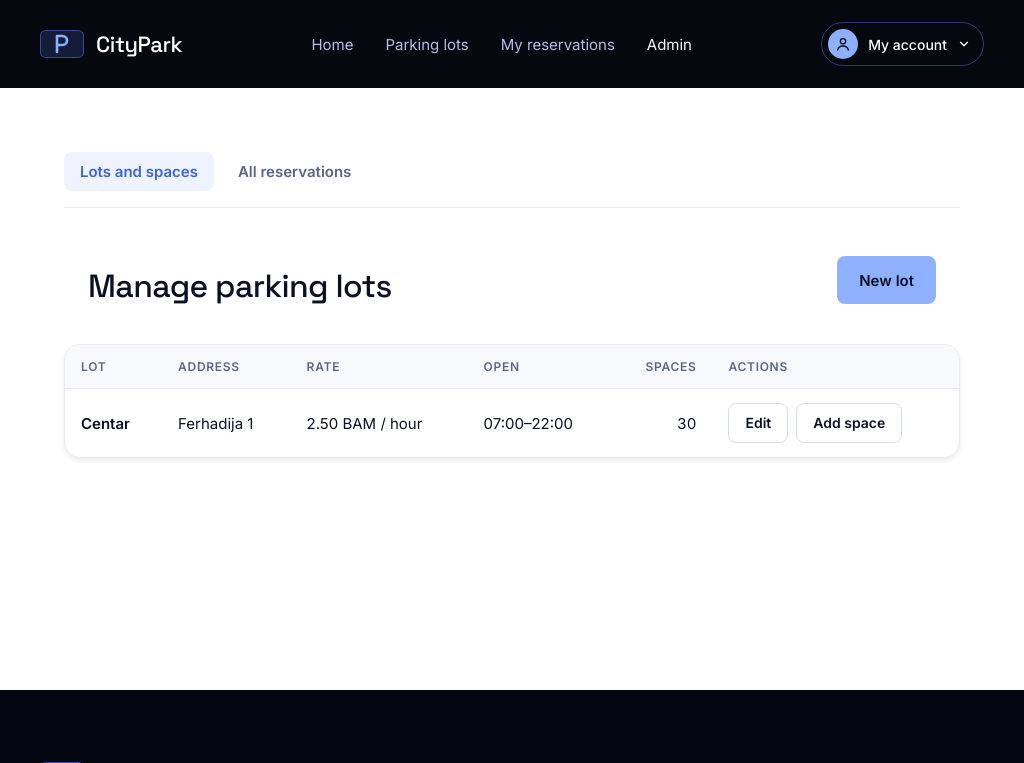
it: admin spaces › shows a duplicate label next to the field
Click the button with aria-label "Add a space to Centar": (849, 423) [796,403,902,443]
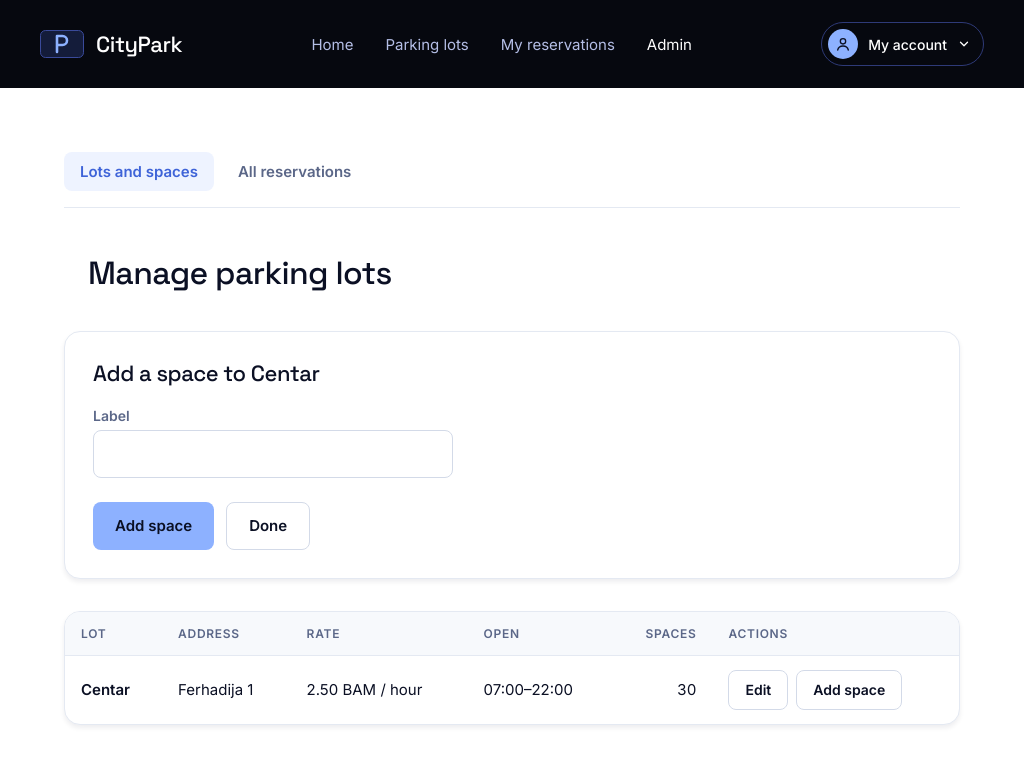
In the field labelled "Label": (273, 454) [93,430,453,478], type "B-01"
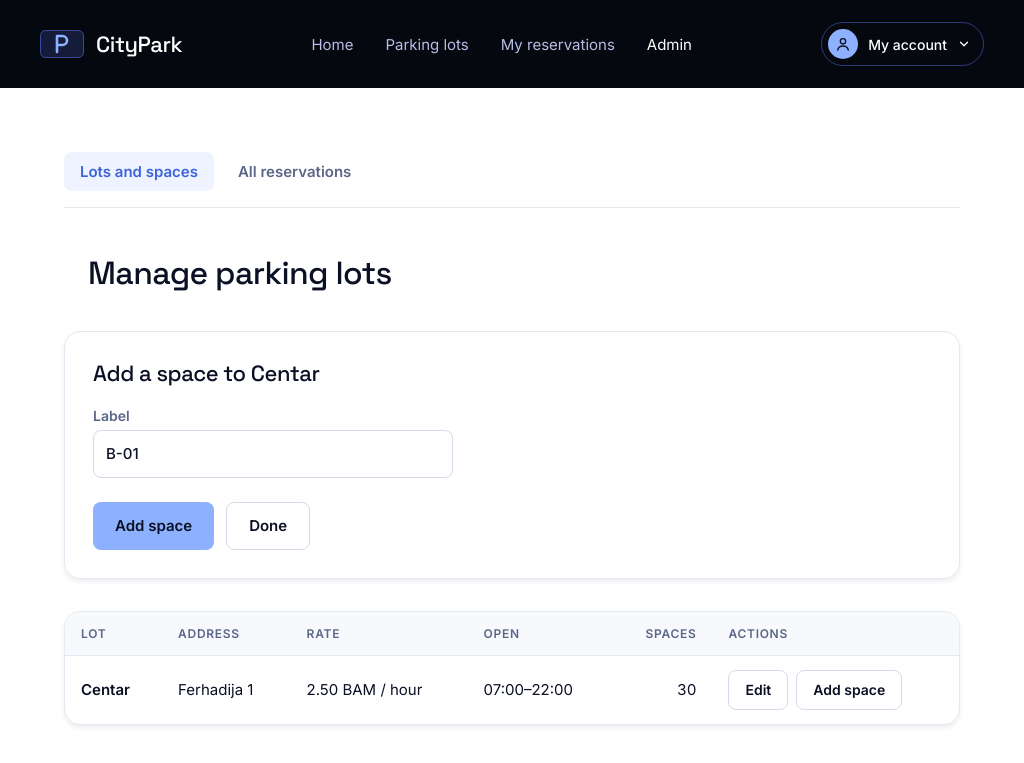
Click the button "Add space" below "Label": (154, 526) [93,502,214,550]
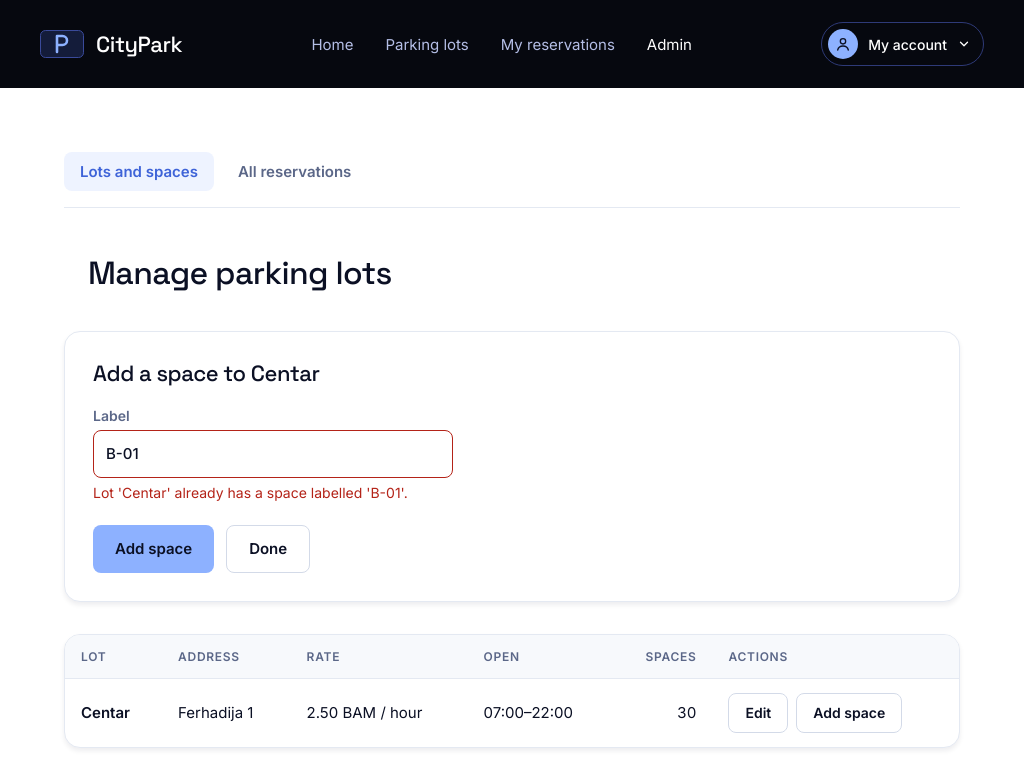
expect the text "Lot 'Centar' already has a space labelled 'B-01'." is shown: met, box [93,484,453,501]
